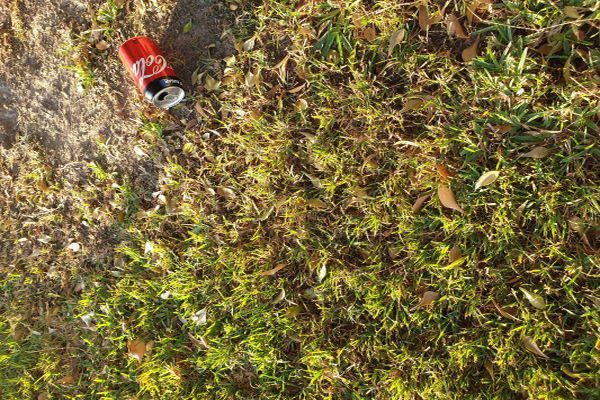Plastic Bottle: (117, 35, 186, 110)
